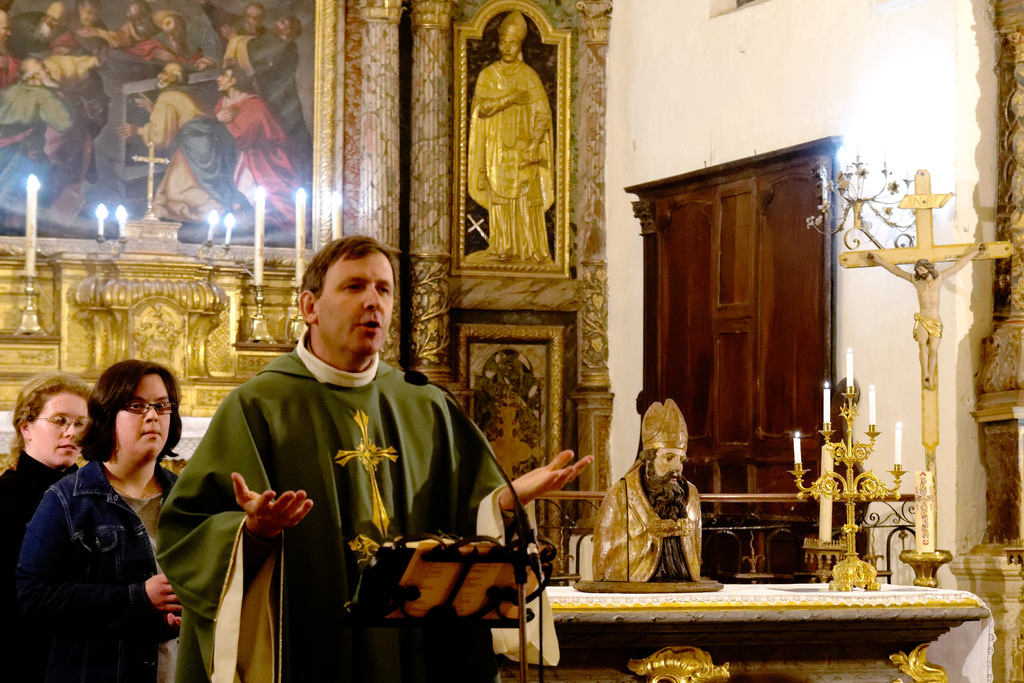Person: (155, 236, 596, 680), (0, 0, 314, 242), (466, 15, 557, 265), (590, 400, 702, 581), (865, 241, 982, 387)
